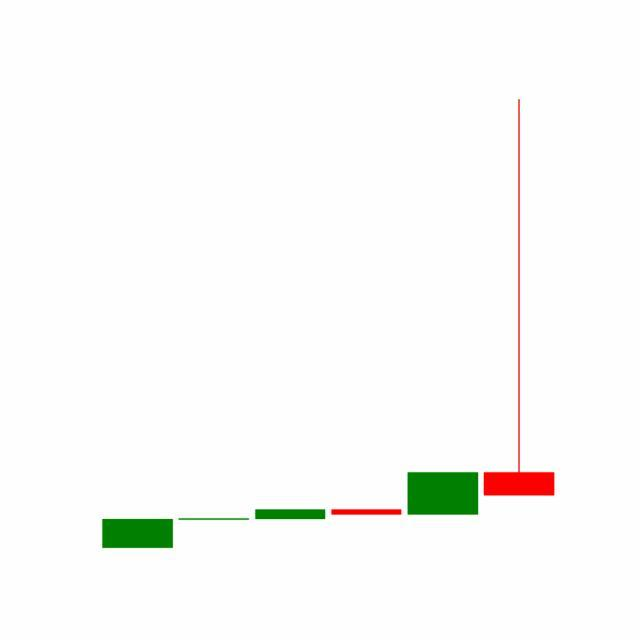Marubozu: (404, 472, 482, 515)
